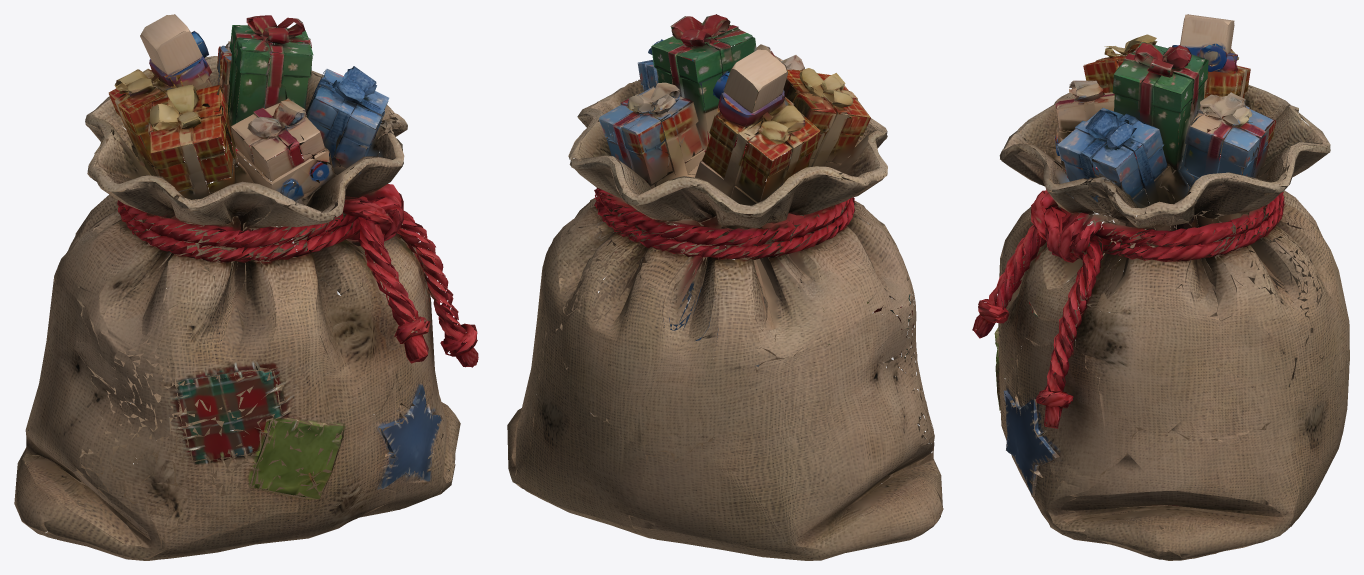
File: Sack.fbx
3 renders of one model, left to right at view 1: azimuth 30°, elevation 25°; view 2: azimuth 150°, elevation 25°; view 3: azimuth 270°, elevation 25°, orthographic. The views are drawn at different scales.
Parts seen in each view (by area): view 1: Sack; view 2: Sack; view 3: Sack.
Boxes of the visible parts, x1,y1,x2,y2 form: Sack: (14,14,478,560); Sack: (507,14,943,560); Sack: (972,14,1349,560).
Bounding box in the file's own units: 52.66 × 54.99 × 43.05.
1 material, 1 textured.
